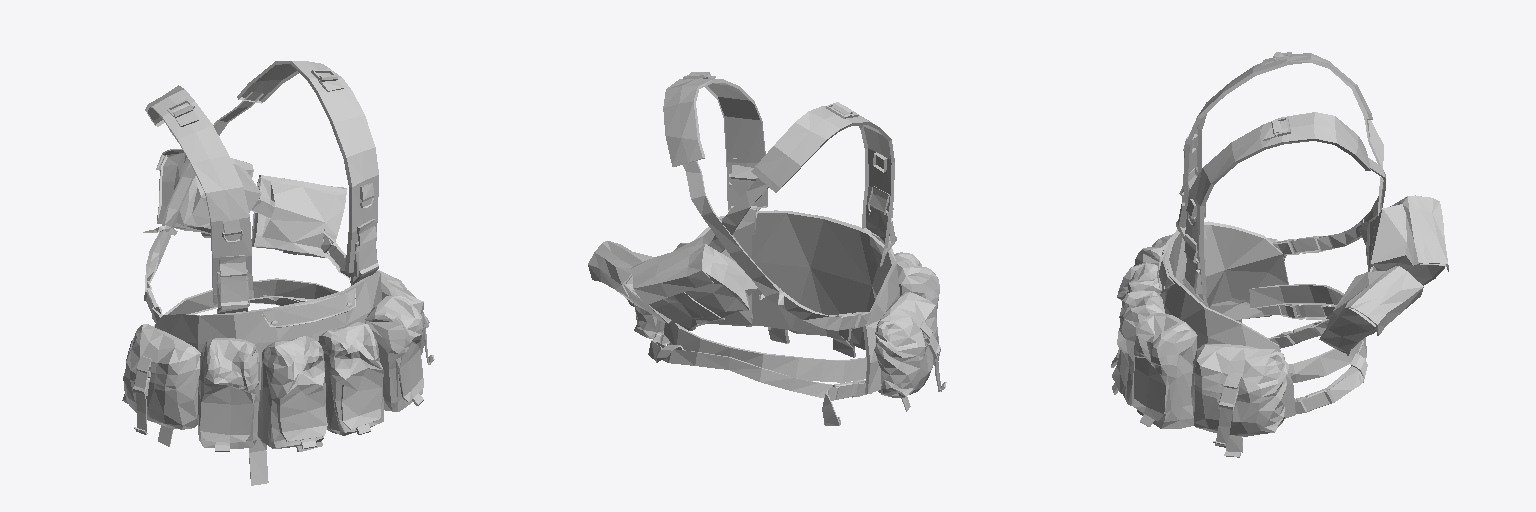
Rendered from chicom.obj.
3 views of the same model, side by side, from view 1: azimuth 30°, elevation 25°; view 2: azimuth 150°, elevation 25°; view 3: azimuth 270°, elevation 25° (orthographic).
Parts seen in each view (by area): view 1: polySurface1.002_polySurface1Shape.003; view 2: polySurface1.002_polySurface1Shape.003; view 3: polySurface1.002_polySurface1Shape.003.
Boxes of the visible parts, <box> form: polySurface1.002_polySurface1Shape.003: <box>122,61,434,485</box>; polySurface1.002_polySurface1Shape.003: <box>588,72,946,425</box>; polySurface1.002_polySurface1Shape.003: <box>1111,52,1448,457</box>.
Size of the model in its own units: 2.2 by 2.38 by 2.15.